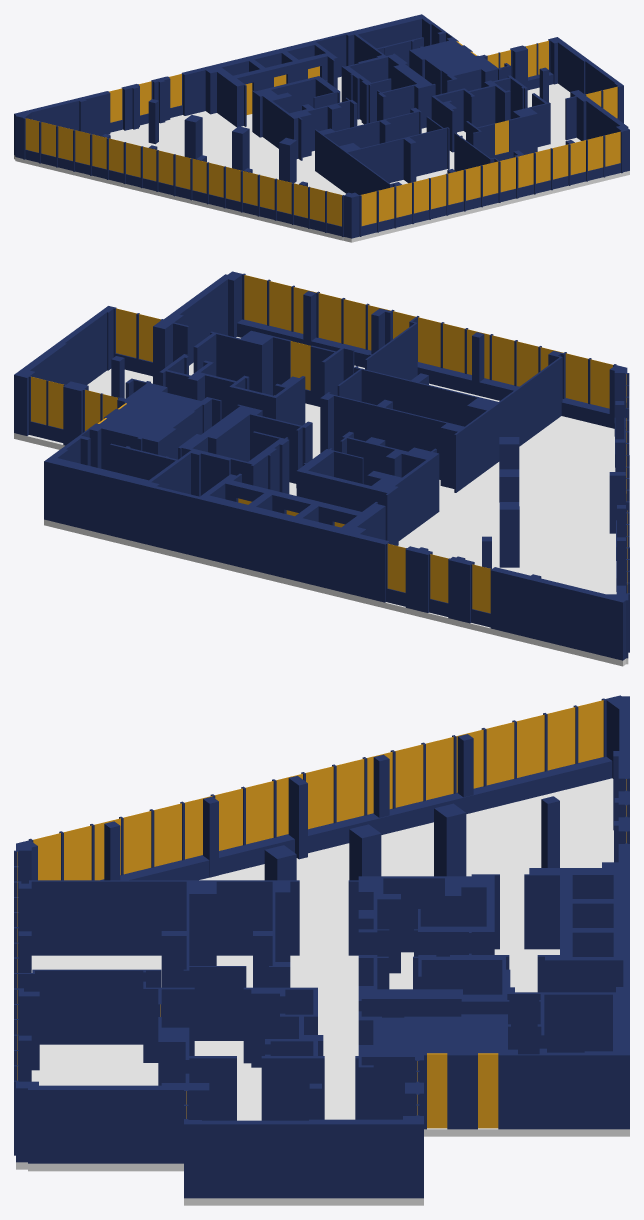
3 renders of one model, top to bottom at view 1: azimuth 30°, elevation 25°; view 2: azimuth 150°, elevation 25°; view 3: azimuth 270°, elevation 25°, orthographic. The views are drawn at different scales.
Parts seen in each view (by area): view 1: Walls, Interior Member, Object_1; view 2: Walls, Object_1, Interior Member; view 3: Walls, Object_1, Interior Member.
Part boxes in pixels (x1,y1,x2,y2): Walls: [14, 14, 629, 238]; Interior Member: [25, 40, 620, 226]; Object_1: [14, 76, 629, 242]; Walls: [14, 271, 629, 660]; Object_1: [14, 337, 628, 666]; Interior Member: [31, 275, 627, 613]; Walls: [14, 695, 629, 1198]; Object_1: [16, 778, 629, 1205]; Interior Member: [17, 700, 626, 1128].
Bounding box in the file's own units: 1493 × 906 × 132.
